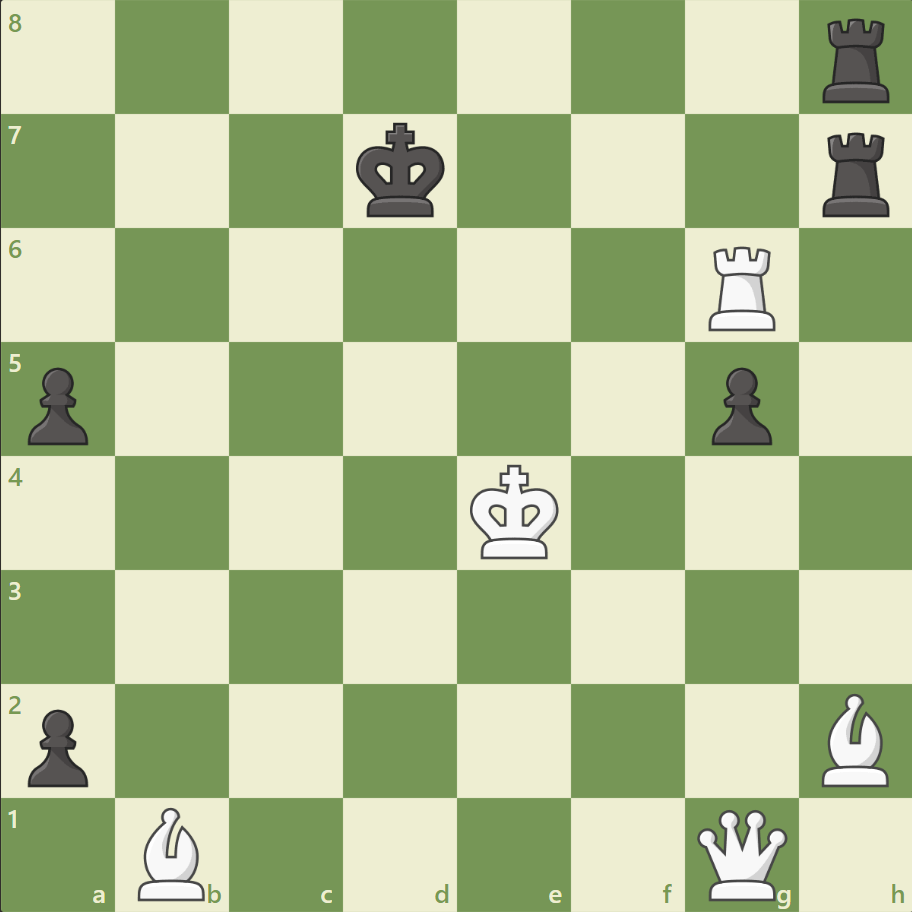B: (812, 687, 896, 790), (131, 801, 215, 904)
K: (465, 458, 565, 566)
Q: (691, 804, 790, 903)
R: (700, 239, 783, 336)
k: (351, 117, 451, 225)
p: (20, 359, 95, 450), (701, 359, 776, 450), (20, 700, 95, 791)
r: (814, 12, 897, 109), (814, 125, 897, 222)
